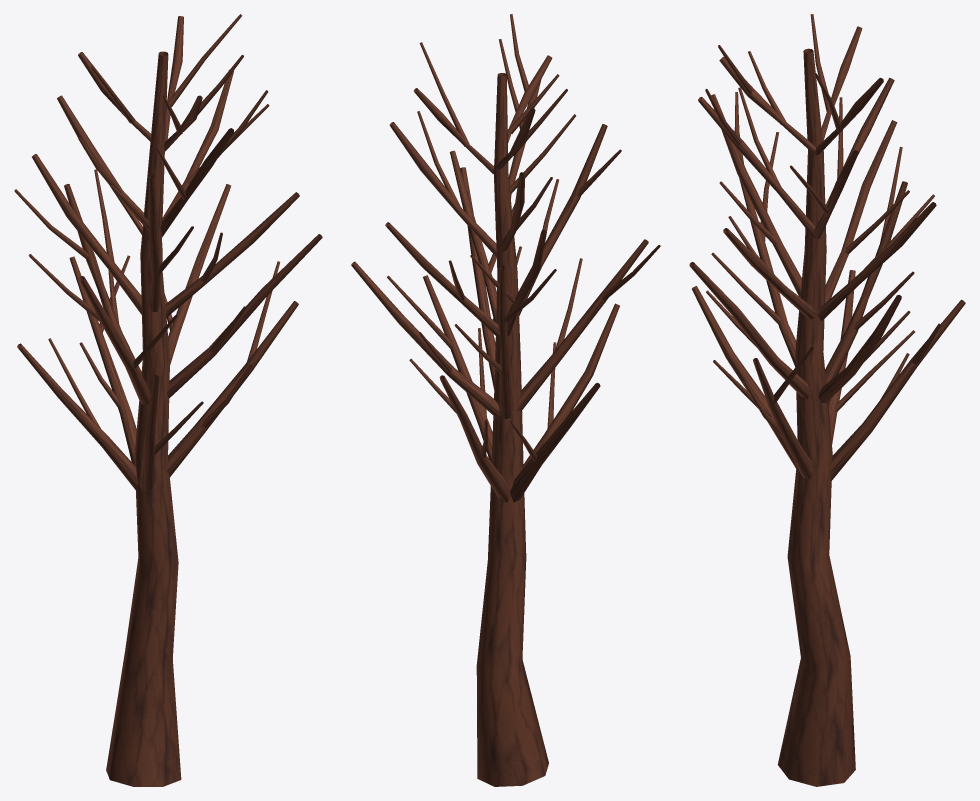
The model's file is fruit_tree_bare.gltf.
3 renders of one model, left to right at view 1: azimuth 30°, elevation 25°; view 2: azimuth 150°, elevation 25°; view 3: azimuth 270°, elevation 25°, orthographic. The views are drawn at different scales.
Visible parts, largest first — view 1: fruit_tree_bare; view 2: fruit_tree_bare; view 3: fruit_tree_bare.
Part boxes in pixels (x1,y1,x2,y2): fruit_tree_bare: (14, 14, 322, 786); fruit_tree_bare: (351, 14, 660, 786); fruit_tree_bare: (689, 14, 965, 786).
Bounding box in the file's own units: 3.1 × 8.24 × 2.75.
1 material, 1 textured.
